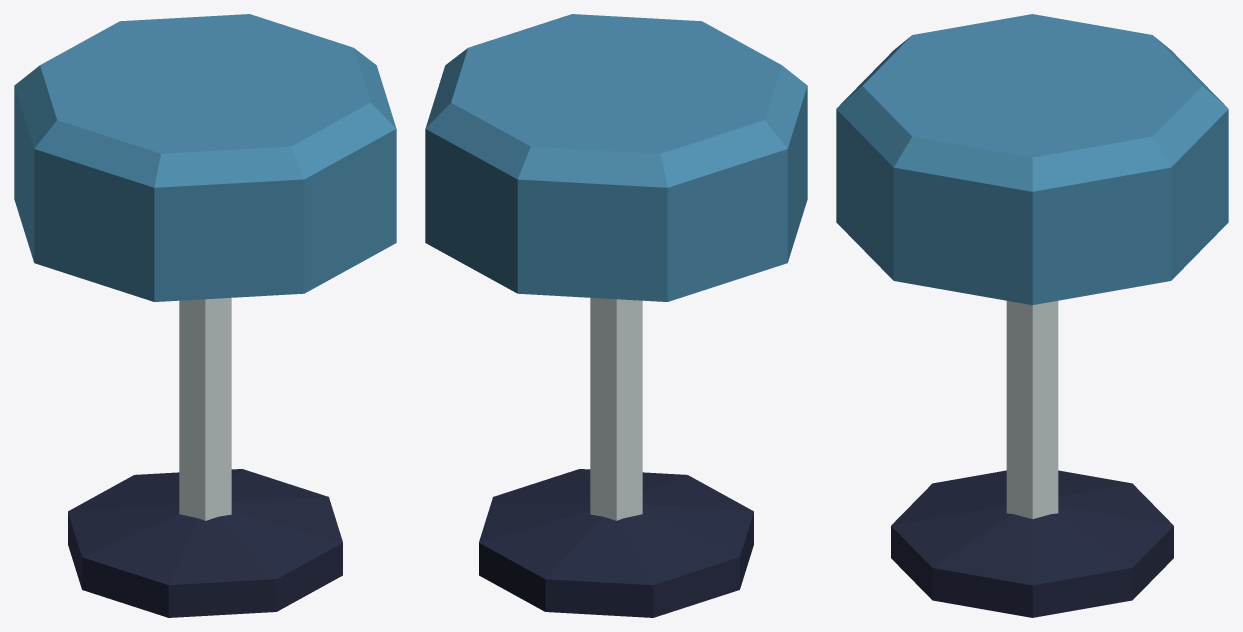
Rendered from tableChair.FBX.
The picture shows the model from 3 angles, left to right: view 1: azimuth 30°, elevation 25°; view 2: azimuth 150°, elevation 25°; view 3: azimuth 270°, elevation 25°; orthographic projection.
Parts seen in each view (by area): view 1: tableChair; view 2: tableChair; view 3: tableChair.
Part boxes in pixels (x1=…): tableChair: x1=14, y1=14, x2=396, y2=617; tableChair: x1=425, y1=14, x2=807, y2=617; tableChair: x1=836, y1=14, x2=1228, y2=617.
Size of the model in its own units: 1.64 by 2.17 by 1.64.
